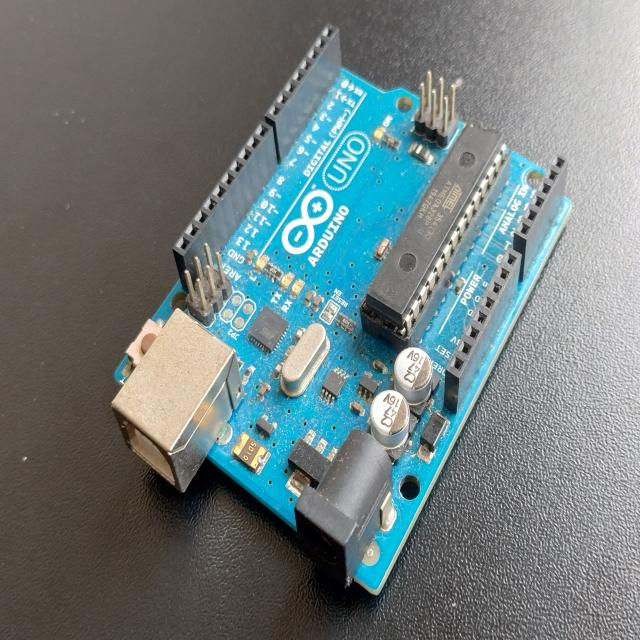arduino: (108, 19, 574, 612)
